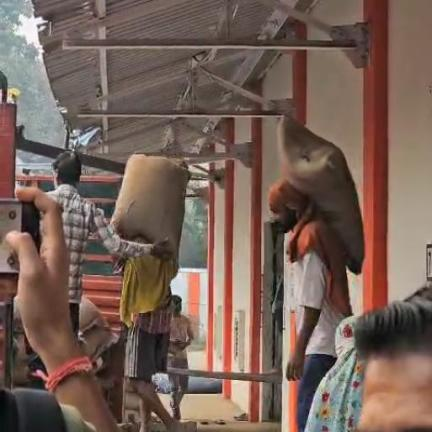Zone-Counting: (269, 117, 363, 431), (111, 155, 195, 431)
